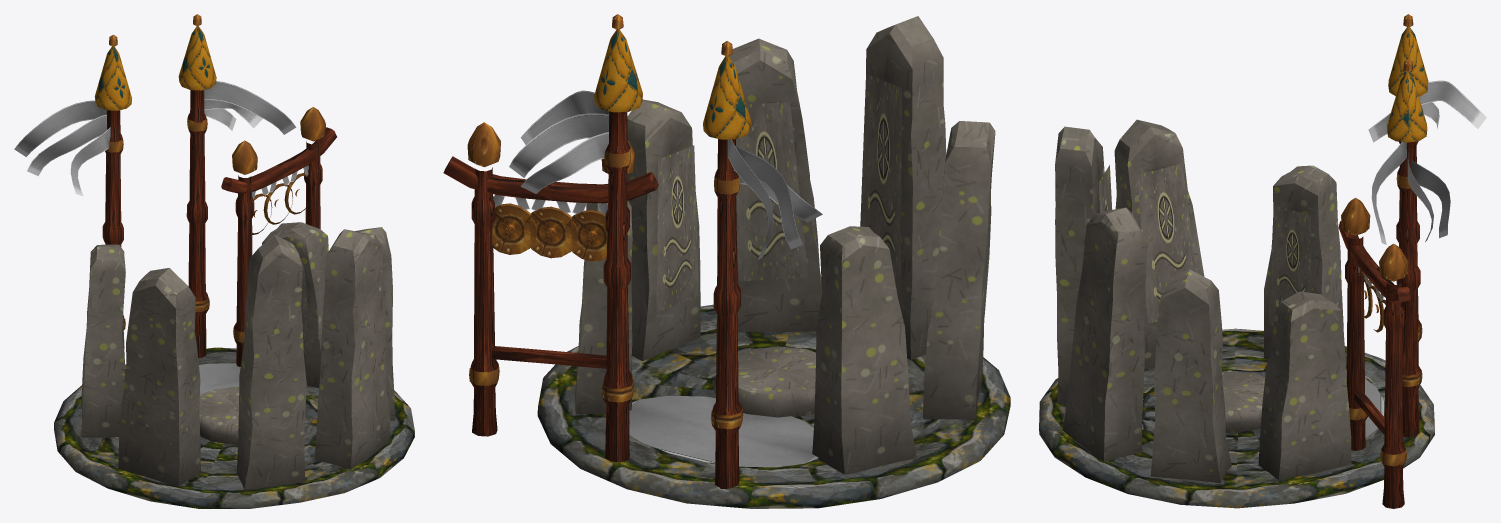
Rendered from clans_naming_stones.glb.
3 views of the same model, side by side, from view 1: azimuth 30°, elevation 25°; view 2: azimuth 150°, elevation 25°; view 3: azimuth 270°, elevation 25° (orthographic). The views are drawn at different scales.
Parts seen in each view (by area): view 1: clans_naming_stones; view 2: clans_naming_stones; view 3: clans_naming_stones.
Part boxes in pixels (<box>): clans_naming_stones: <box>14,14,414,508</box>; clans_naming_stones: <box>443,14,1010,508</box>; clans_naming_stones: <box>1039,14,1486,508</box>.
Bounding box in the file's own units: 3.04 × 3.04 × 3.19.
Materials: 2 (2 with a texture image).
